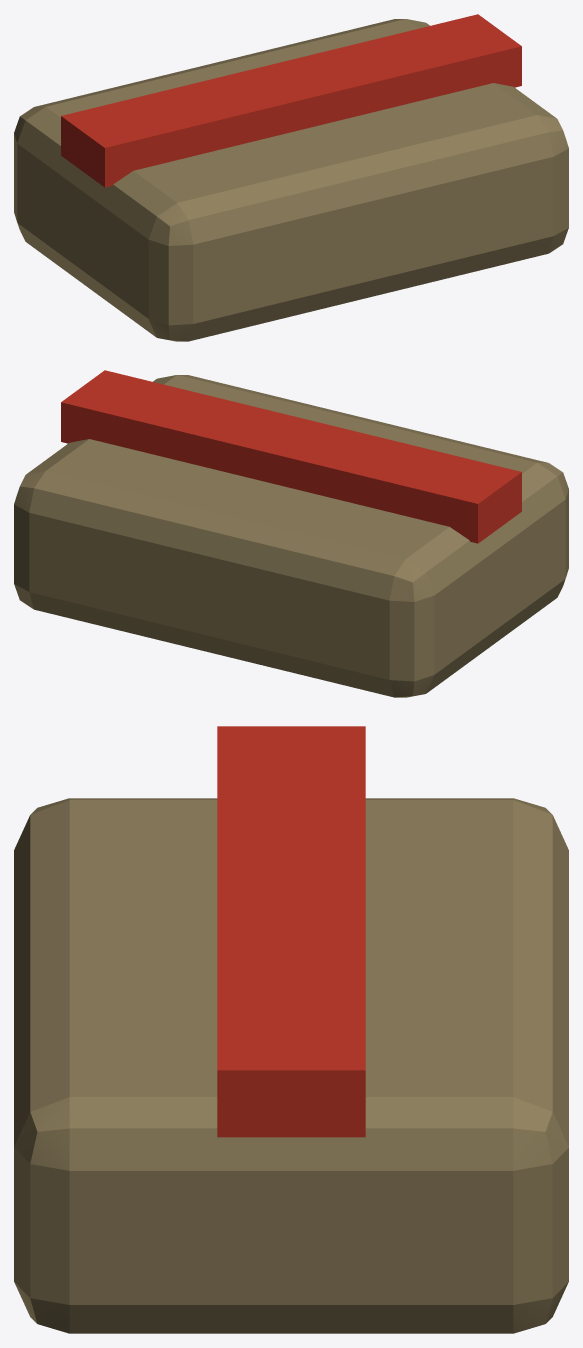
File: C4Charge.obj
The picture shows the model from 3 angles, top to bottom: view 1: azimuth 30°, elevation 25°; view 2: azimuth 150°, elevation 25°; view 3: azimuth 270°, elevation 25°; orthographic projection. The views are drawn at different scales.
Parts seen in each view (by area): view 1: C4Charge_Block, C4Charge_Stripe; view 2: C4Charge_Block, C4Charge_Stripe; view 3: C4Charge_Block, C4Charge_Stripe.
Boxes of the visible parts, x1,y1,x2,y2 form: C4Charge_Block: [14, 19, 568, 341]; C4Charge_Stripe: [61, 14, 521, 187]; C4Charge_Block: [14, 375, 568, 697]; C4Charge_Stripe: [61, 370, 521, 543]; C4Charge_Block: [14, 798, 568, 1333]; C4Charge_Stripe: [217, 726, 365, 1137].
Bounding box in the file's own units: 0.22 × 0.085 × 0.15.
